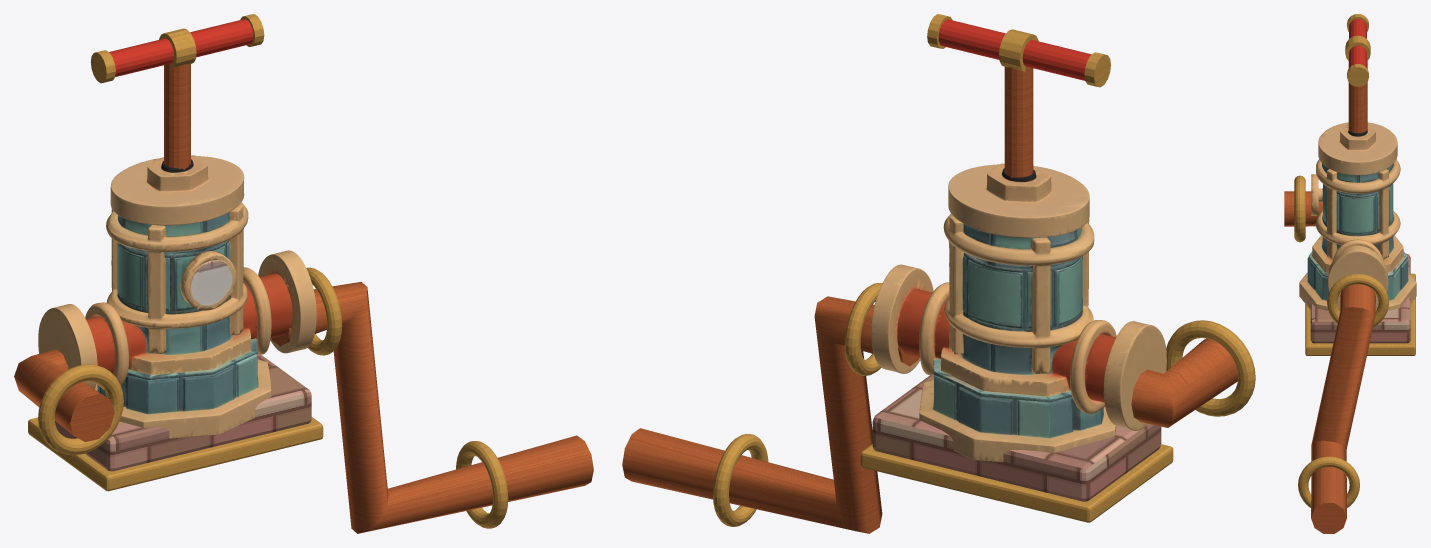
File: act2_pump_rear.glb
3 renders of one model, left to right at view 1: azimuth 30°, elevation 25°; view 2: azimuth 150°, elevation 25°; view 3: azimuth 270°, elevation 25°, orthographic. The views are drawn at different scales.
Parts seen in each view (by area): view 1: RODIN_act2_wall_pump_rodin_Part, SM_Pump_rear_Flanges, ANIM_Pump_Piston_Mesh; view 2: RODIN_act2_wall_pump_rodin_Part, SM_Pump_rear_Flanges, ANIM_Pump_Piston_Mesh; view 3: SM_Pump_rear_Flanges, RODIN_act2_wall_pump_rodin_Part, ANIM_Pump_Piston_Mesh.
Boxes of the visible parts, <box> form: RODIN_act2_wall_pump_rodin_Part: <box>38,155,316,438</box>; SM_Pump_rear_Flanges: <box>14,267,593,533</box>; ANIM_Pump_Piston_Mesh: <box>90,14,264,169</box>; RODIN_act2_wall_pump_rodin_Part: <box>871,163,1166,462</box>; SM_Pump_rear_Flanges: <box>622,283,1255,533</box>; ANIM_Pump_Piston_Mesh: <box>927,14,1110,178</box>; SM_Pump_rear_Flanges: <box>1284,175,1415,533</box>; RODIN_act2_wall_pump_rodin_Part: <box>1299,122,1416,311</box>; ANIM_Pump_Piston_Mesh: <box>1345,14,1370,132</box>.
Bounding box in the file's own units: 1.71 × 1.59 × 0.503.
5 materials, 4 textured.
